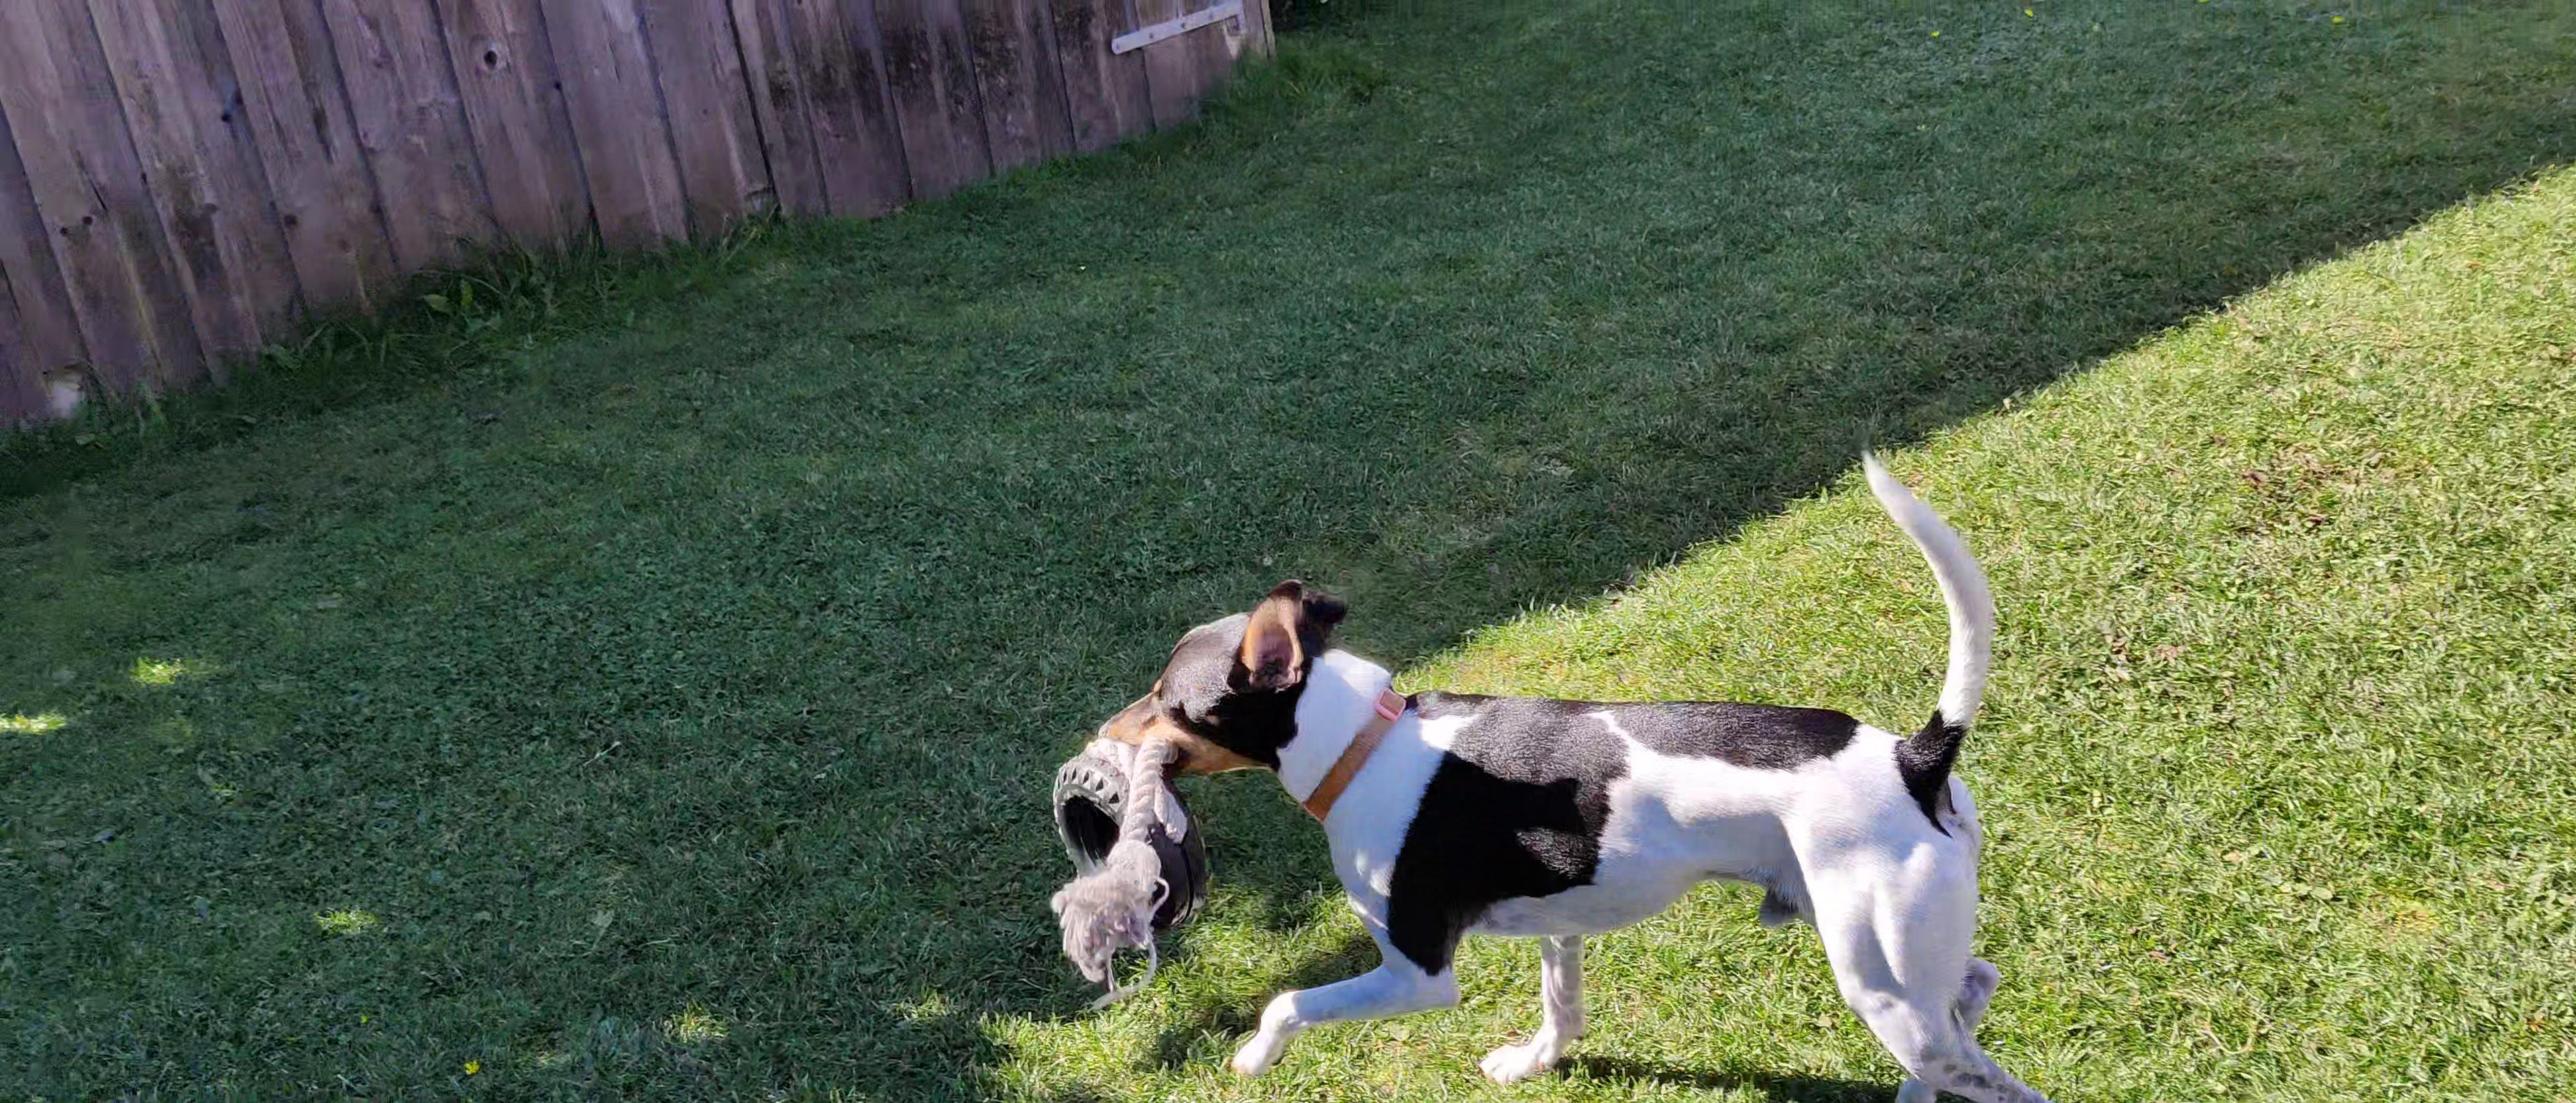Dog: (1079, 434, 2086, 1103)
